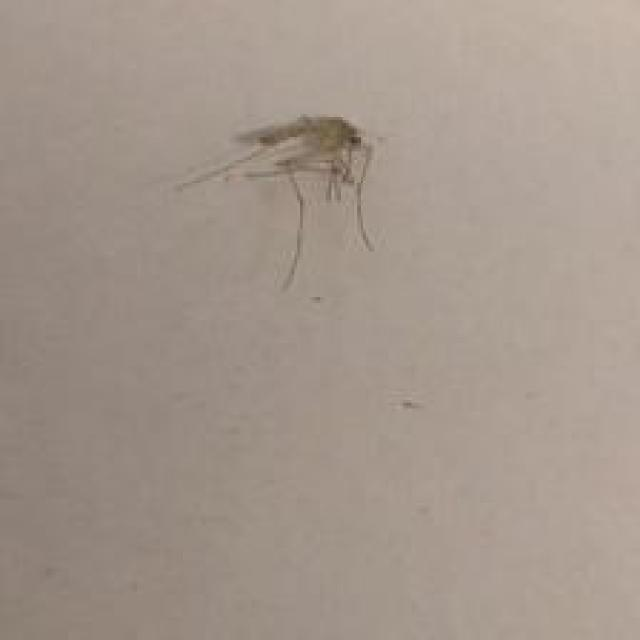Culex: (173, 111, 381, 292)
